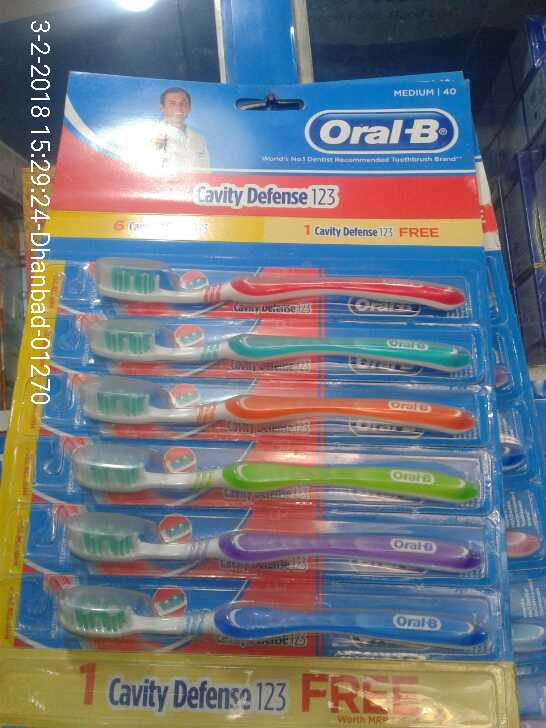oralb: (79, 253, 467, 326), (78, 299, 466, 372), (84, 362, 472, 435), (68, 434, 456, 507), (66, 495, 454, 568), (61, 572, 449, 645)
